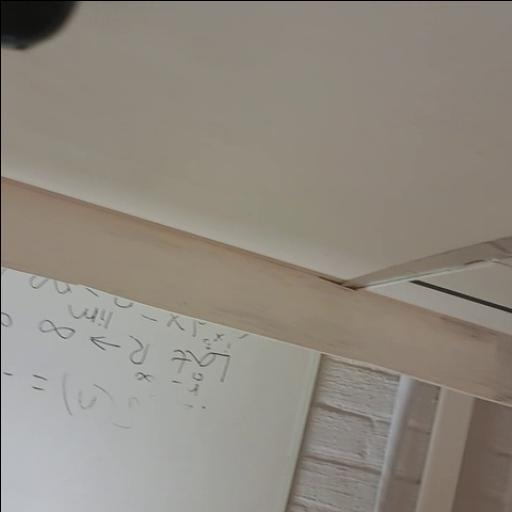dead: (0, 0, 81, 49)
